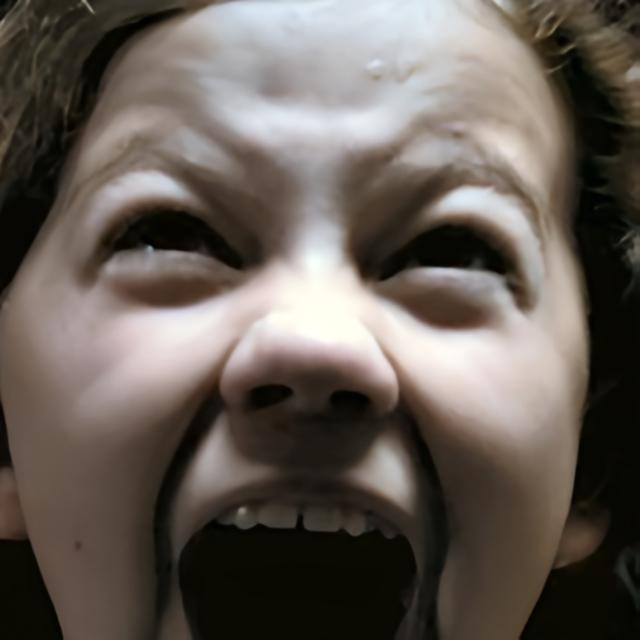fear: (1, 0, 592, 640)
